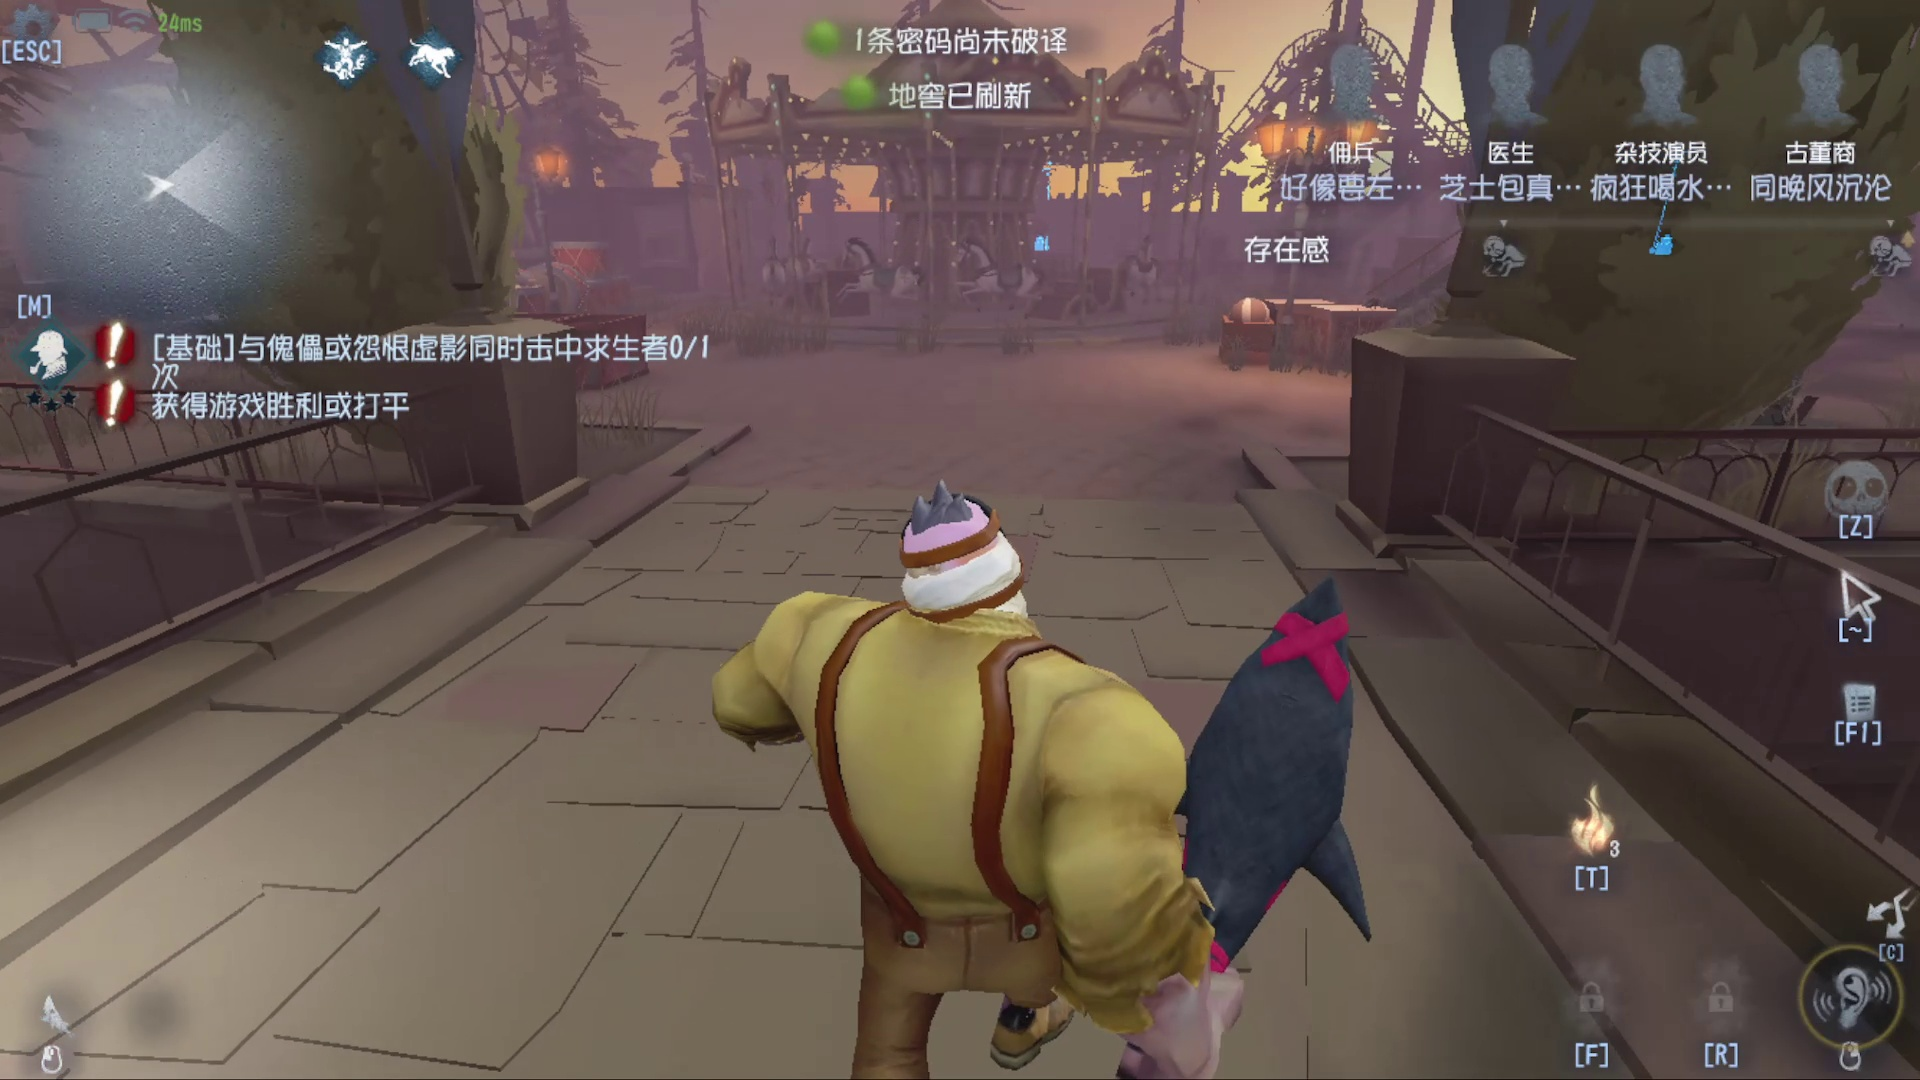密码机: (1619, 141, 1716, 268), (1007, 148, 1075, 261)
